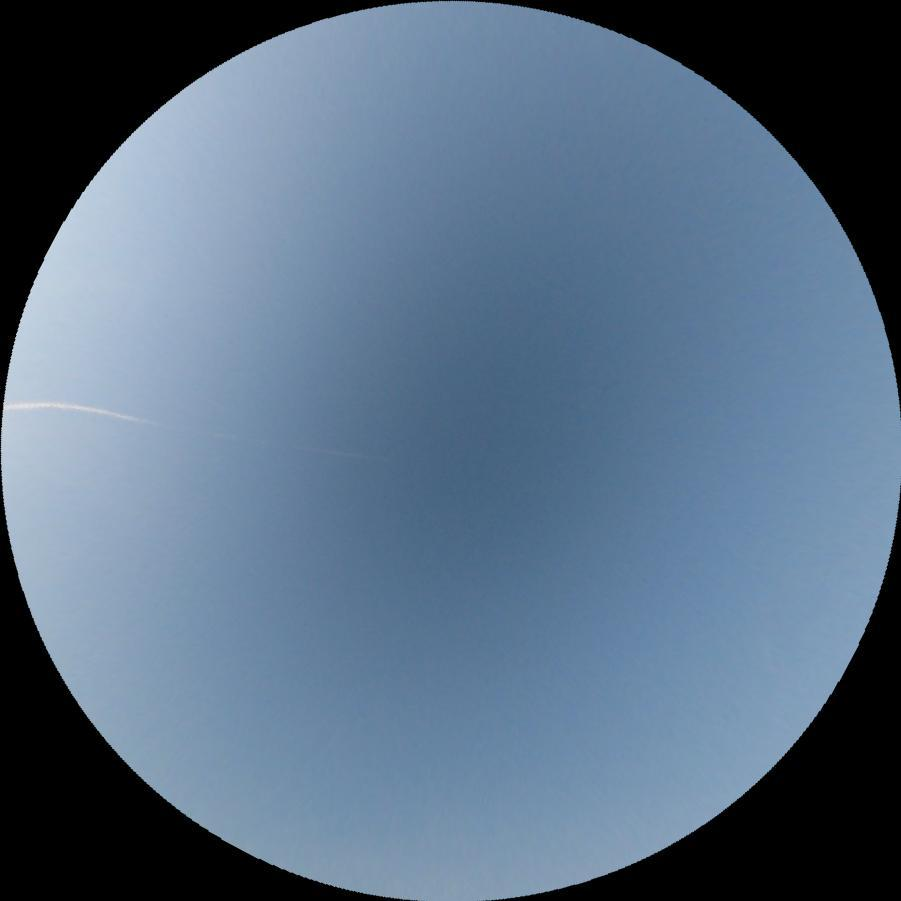contrail old: (2, 393, 389, 462)
